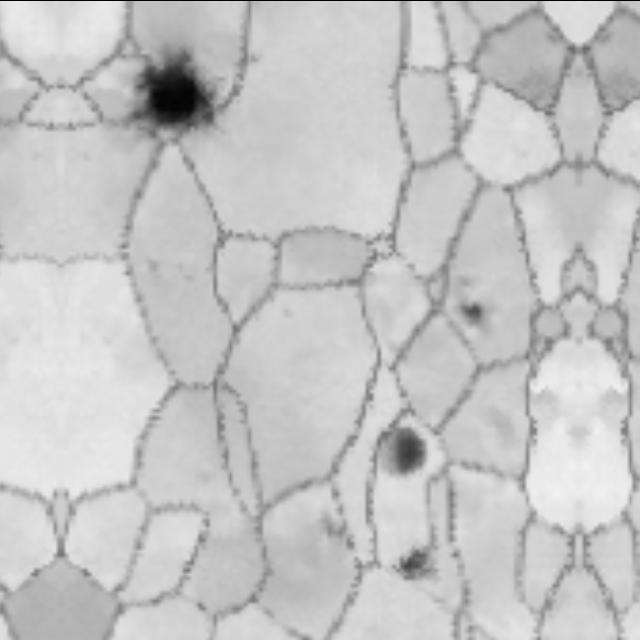good_void: (128, 52, 217, 132), (376, 418, 433, 489), (313, 508, 358, 547), (396, 548, 434, 578), (455, 297, 486, 324), (142, 256, 169, 282), (249, 48, 265, 70)
